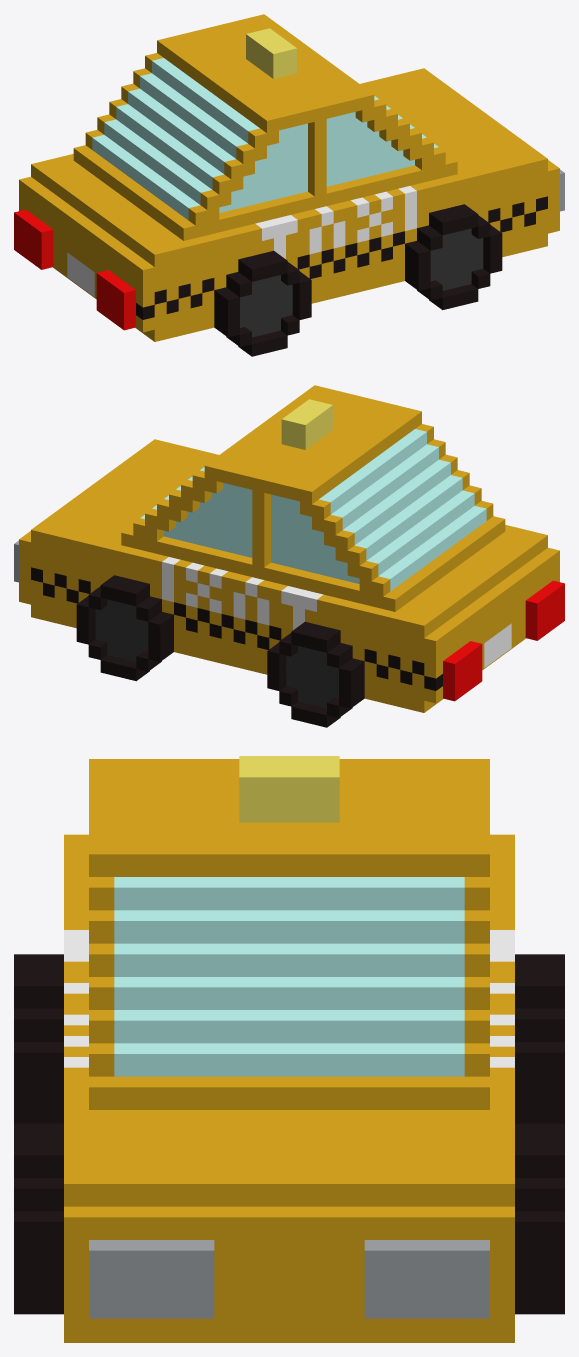
Rendered from autos-6.obj.
The picture shows the model from 3 angles, top to bottom: view 1: azimuth 30°, elevation 25°; view 2: azimuth 150°, elevation 25°; view 3: azimuth 270°, elevation 25°; orthographic projection. The views are drawn at different scales.
Bounding box in the file's own units: 3.7 × 1.9 × 2.2.
1 material, 1 textured.
